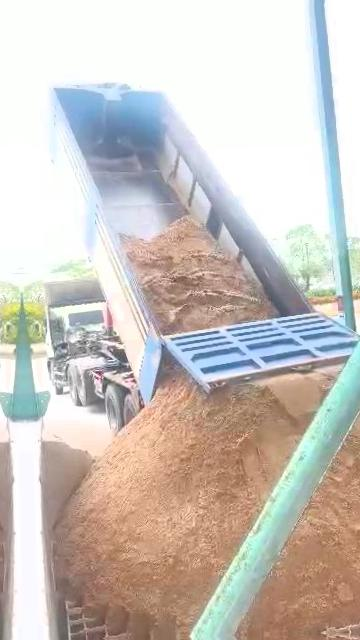sand: (57, 365, 330, 637), (240, 432, 360, 633), (121, 218, 277, 333), (43, 430, 92, 528), (356, 395, 360, 446)
